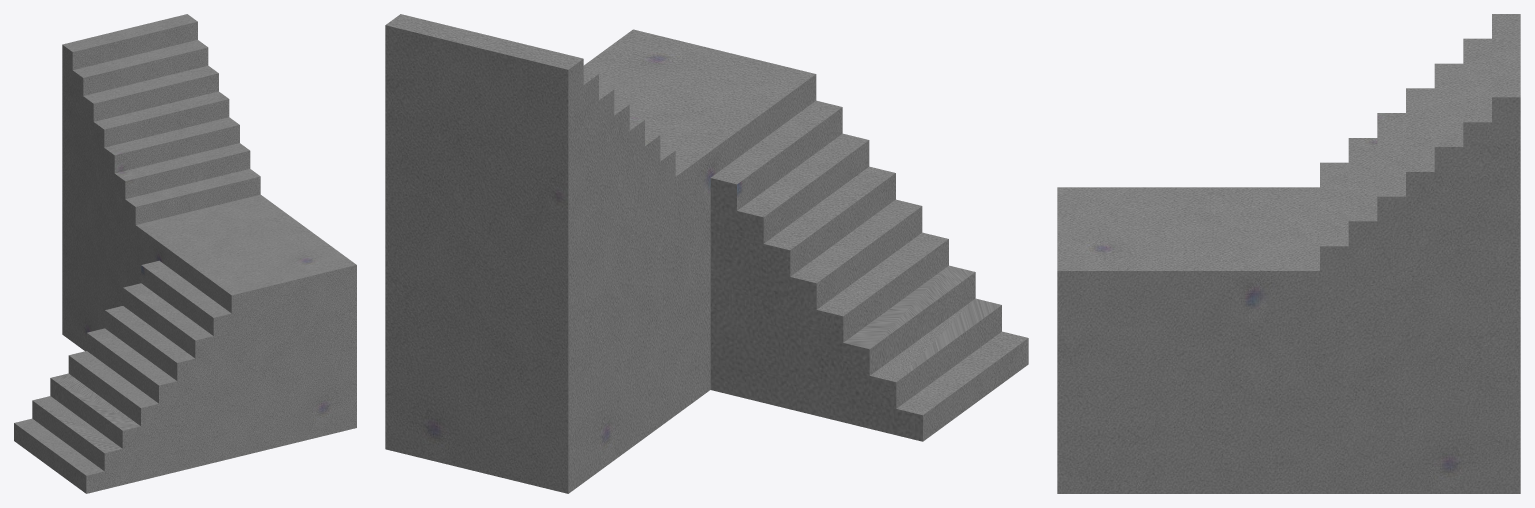
3 renders of one model, left to right at view 1: azimuth 30°, elevation 25°; view 2: azimuth 150°, elevation 25°; view 3: azimuth 270°, elevation 25°, orthographic. The views are drawn at different scales.
Parts seen in each view (by area): view 1: AshStairs.004; view 2: AshStairs.004; view 3: AshStairs.004.
Boxes of the visible parts, bbox=[...] form: AshStairs.004: bbox=[14, 14, 356, 493]; AshStairs.004: bbox=[385, 14, 1028, 493]; AshStairs.004: bbox=[1057, 14, 1520, 493].
Size of what is drawn, in the model's own units: 3.9 by 4 by 4.23.
Materials: 1 (1 with a texture image).
